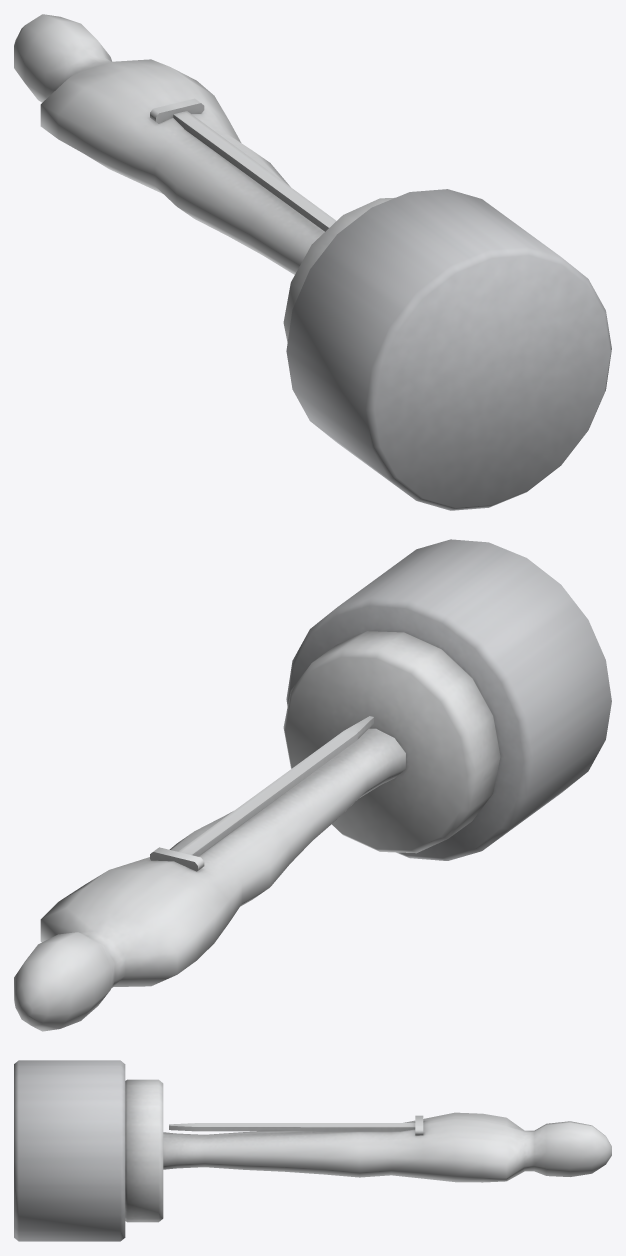
File: oscar_statuette.glb
The picture shows the model from 3 angles, top to bottom: view 1: azimuth 30°, elevation 25°; view 2: azimuth 150°, elevation 25°; view 3: azimuth 270°, elevation 25°; orthographic projection. The views are drawn at different scales.
Visible parts, largest first — view 1: x4_oscar_statuette; view 2: x4_oscar_statuette; view 3: x4_oscar_statuette.
Boxes of the visible parts, x1=… form: x4_oscar_statuette: x1=14, y1=14, x2=611, y2=510; x4_oscar_statuette: x1=14, y1=539, x2=611, y2=1031; x4_oscar_statuette: x1=14, y1=1060, x2=611, y2=1241.
Size of the model in its own units: 0.0299 by 0.0299 by 0.0978.
Materials: 1 (1 with a texture image).
